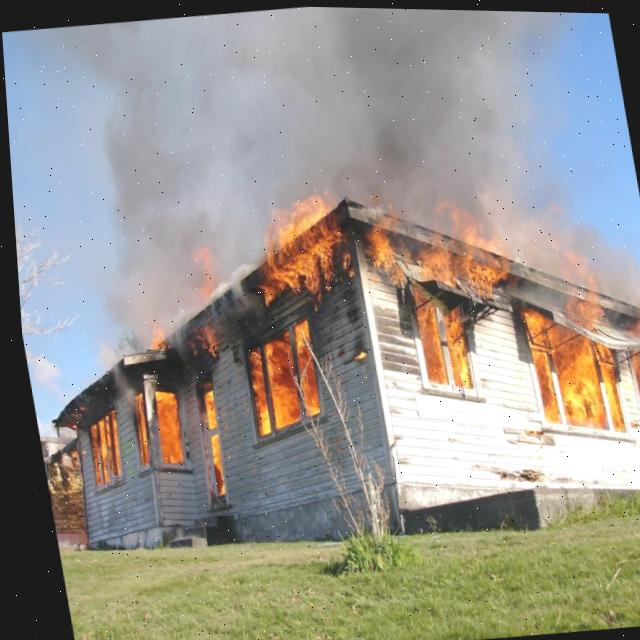fire: (48, 190, 640, 548)
smoke: (2, 5, 640, 432)
